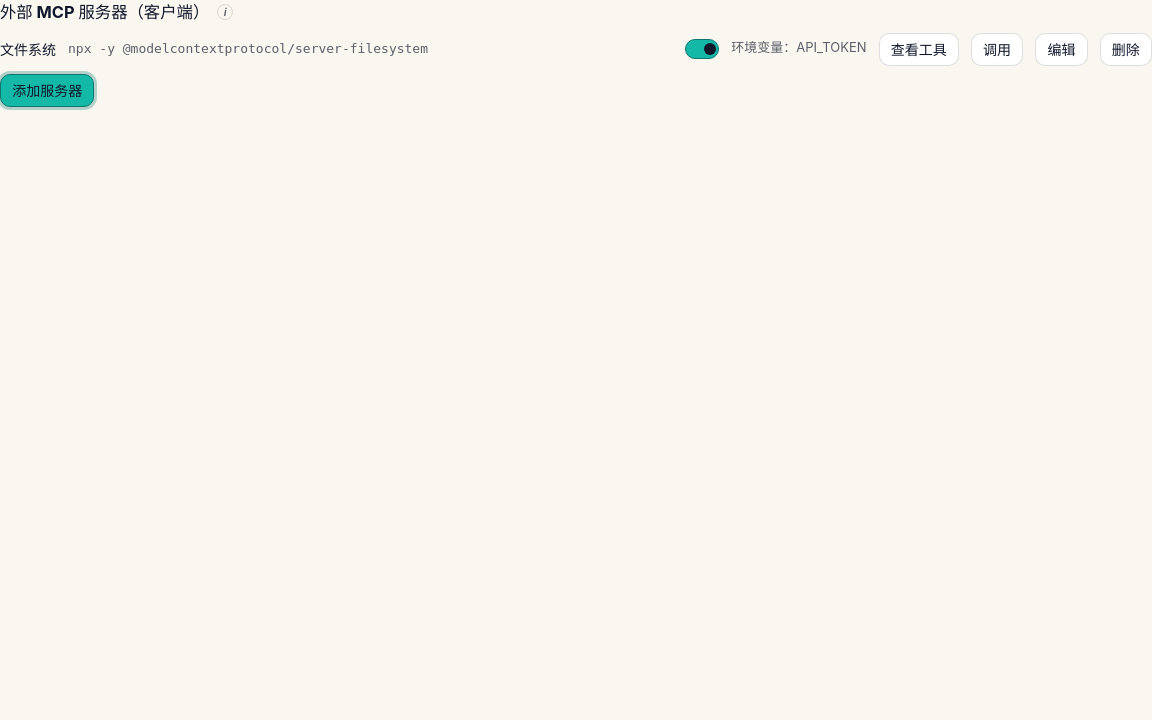
Test: McpClientSettings › 调用失败（isError）显示失败标记
Click the button with test id "mcp-client-tools-srv-1" at (919, 49), box x1=878 y1=33 x2=959 y2=66
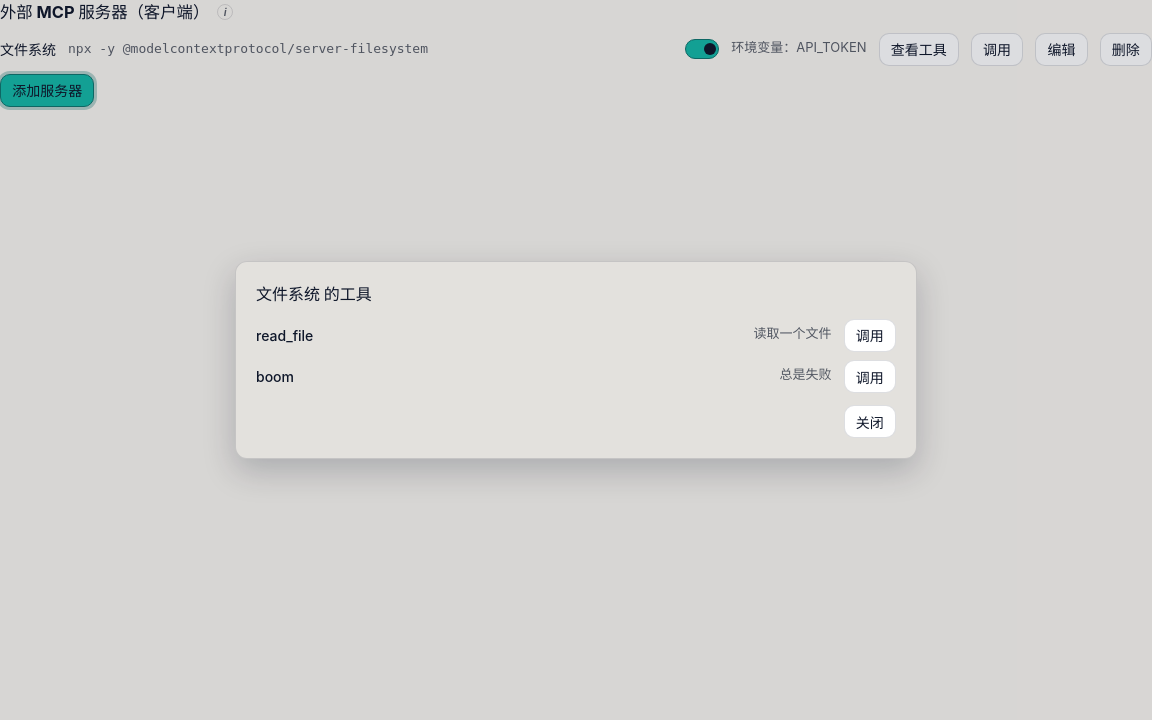
Click the button with test id "mcp-client-tool-call-boom" at (870, 377), box x1=844 y1=360 x2=896 y2=393
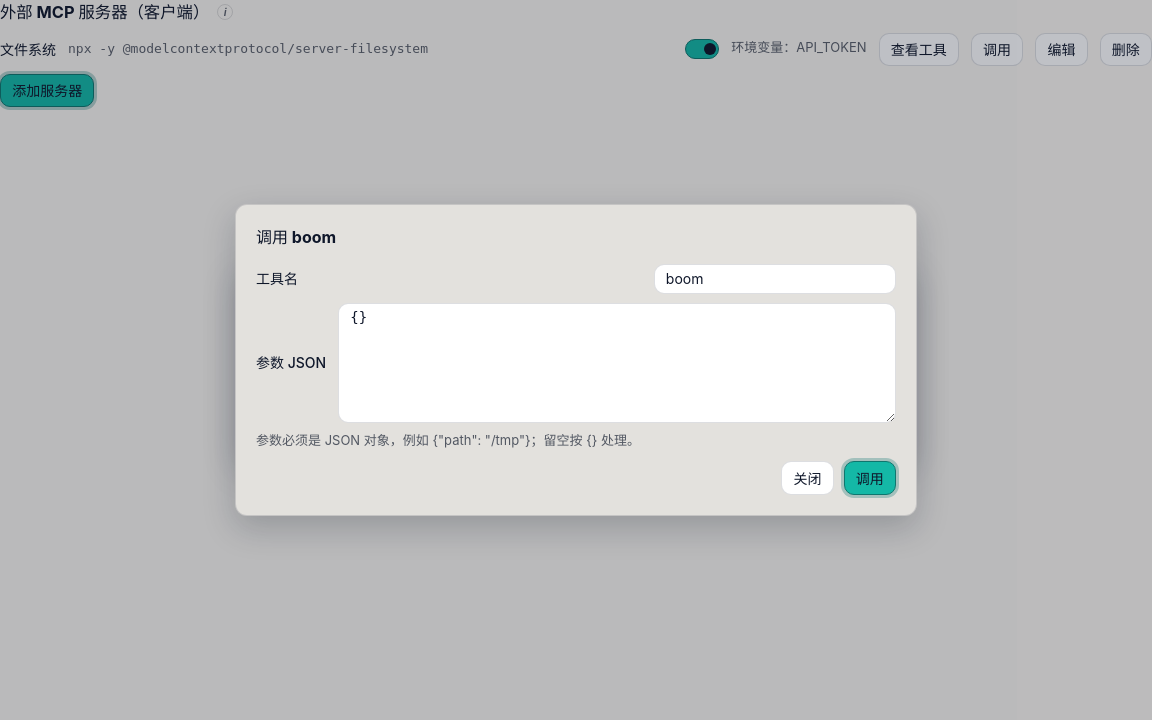
Click the button with test id "mcp-client-call-run" at (870, 478), box x1=844 y1=462 x2=896 y2=495
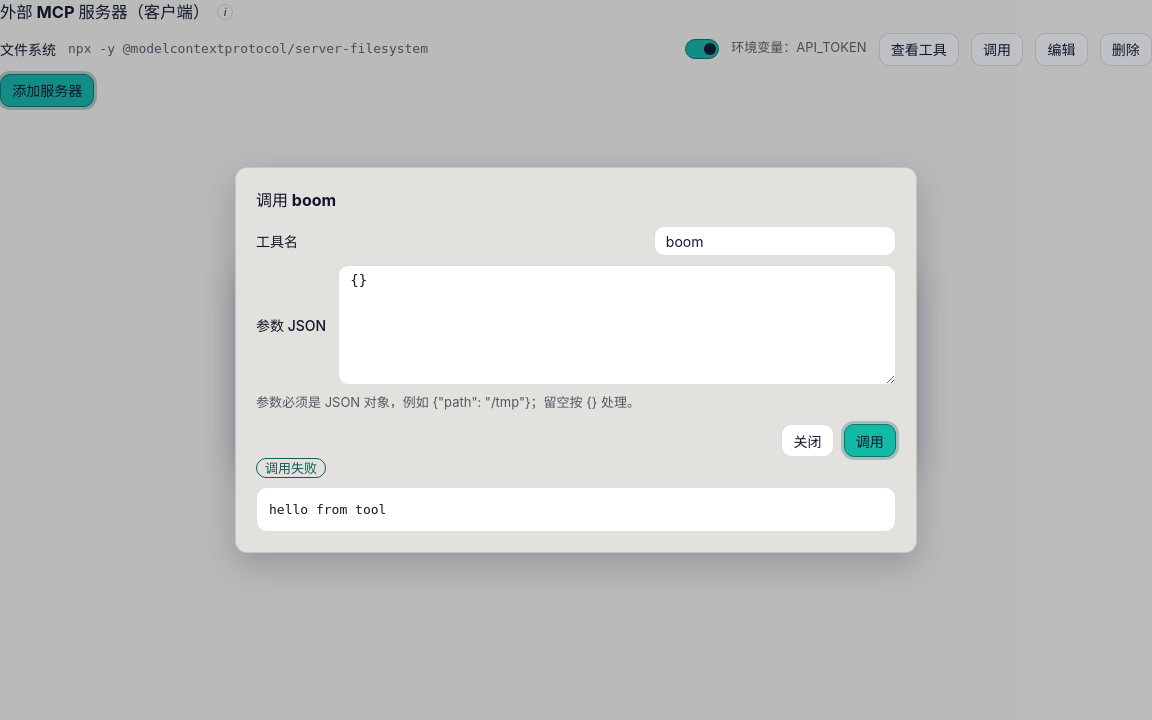
Expected: the element with test id "mcp-client-call-result" is shown, x1=256 y1=457 x2=896 y2=532
Expected: the text "调用失败" is shown, x1=256 y1=458 x2=326 y2=478
Expected: the element with test id "mcp-client-call-text" reads "hello from tool", x1=269 y1=502 x2=386 y2=517
